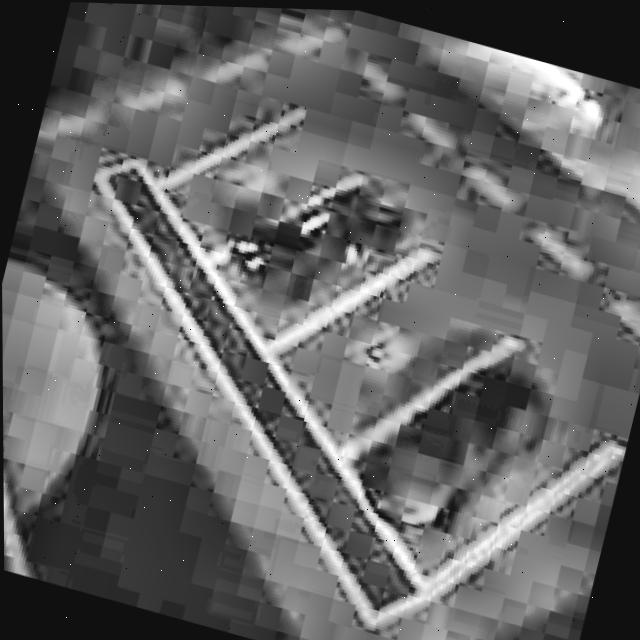car: (354, 330, 562, 561), (220, 145, 414, 329)
